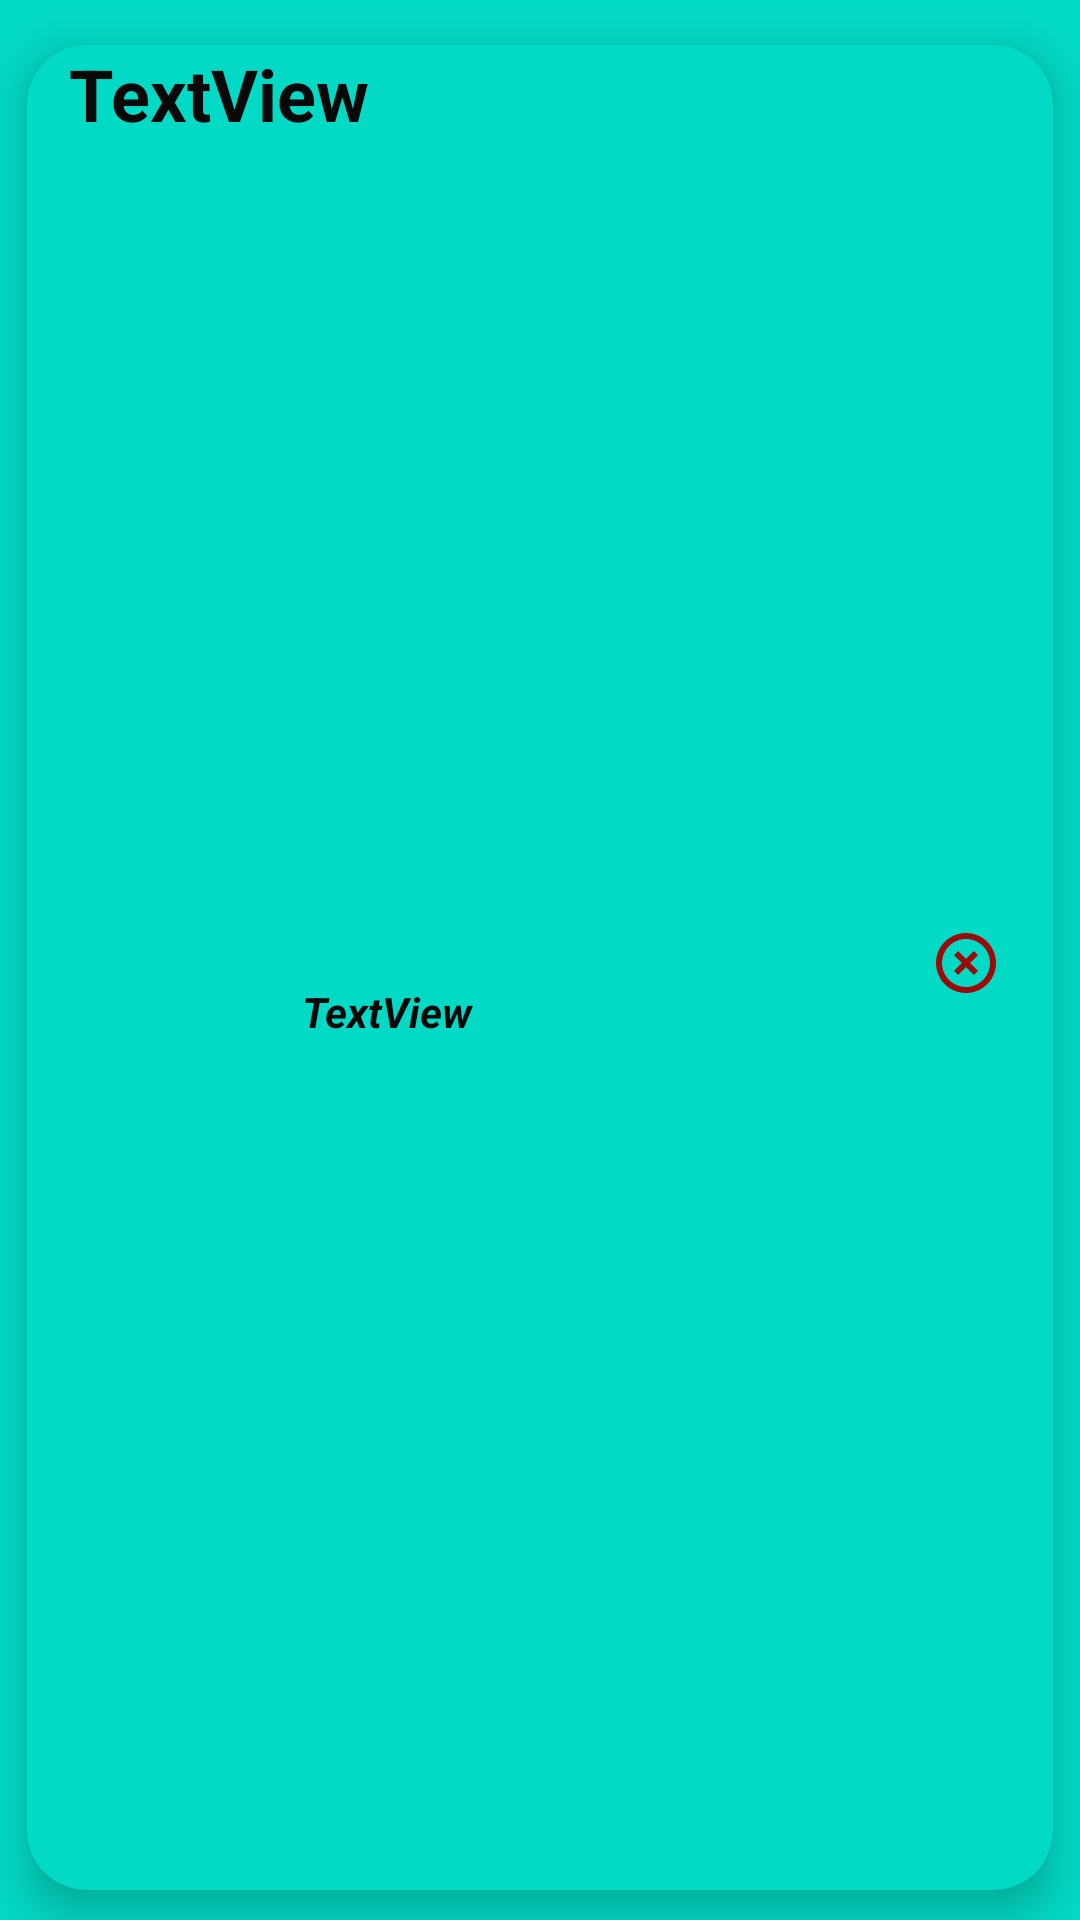

Named icons in this screenshot (1080w x 1920h) and their centers, point (x, y):
highlight off: point (966, 963)
